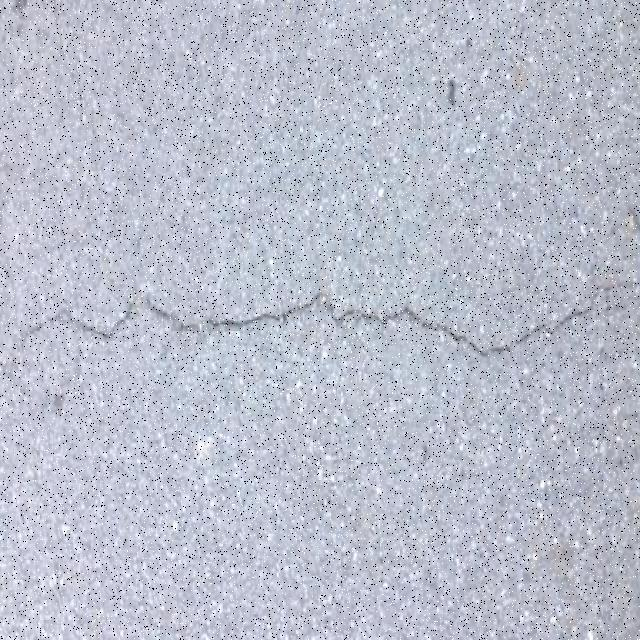moderate crack: (4, 216, 129, 296), (5, 341, 90, 408), (571, 394, 635, 453), (523, 294, 612, 336), (22, 304, 115, 342), (129, 294, 208, 332)
severe crack: (202, 294, 327, 328)
